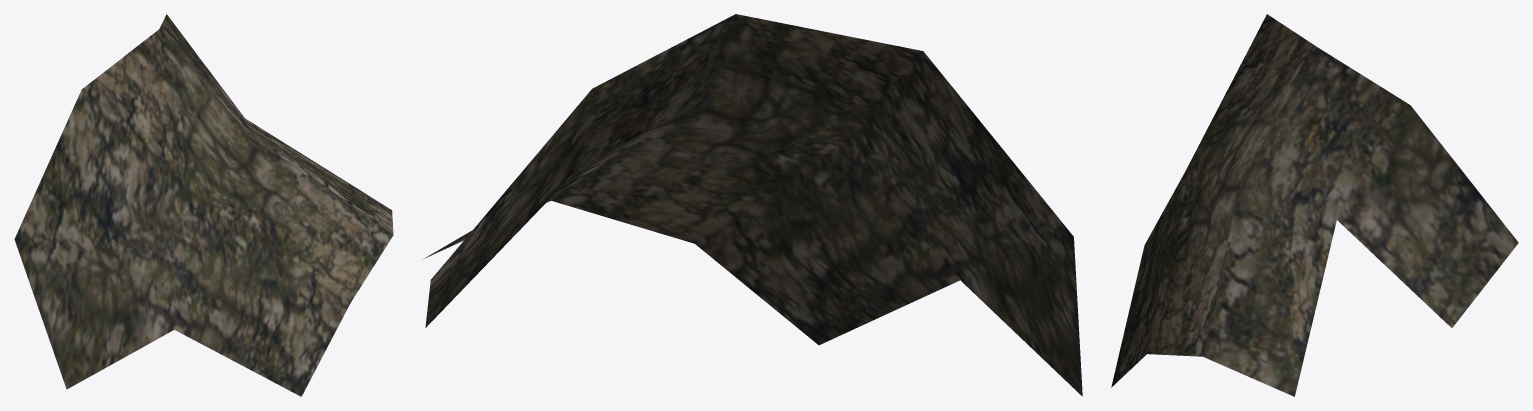
Rendered from EKH_ENTRANCE_PS_EN_LINE2603965.fbx.
3 renders of one model, left to right at view 1: azimuth 30°, elevation 25°; view 2: azimuth 150°, elevation 25°; view 3: azimuth 270°, elevation 25°, orthographic. The views are drawn at different scales.
Visible parts, largest first — view 1: EKH_ENTRANCE_PS_EN_LINE2603965; view 2: EKH_ENTRANCE_PS_EN_LINE2603965; view 3: EKH_ENTRANCE_PS_EN_LINE2603965.
Boxes of the visible parts, bbox=[...] form: EKH_ENTRANCE_PS_EN_LINE2603965: bbox=[14, 14, 393, 396]; EKH_ENTRANCE_PS_EN_LINE2603965: bbox=[424, 14, 1082, 396]; EKH_ENTRANCE_PS_EN_LINE2603965: bbox=[1111, 14, 1518, 396].
Size of the model in its own units: 30024 by 21514 by 24927.
1 material, 1 textured.
